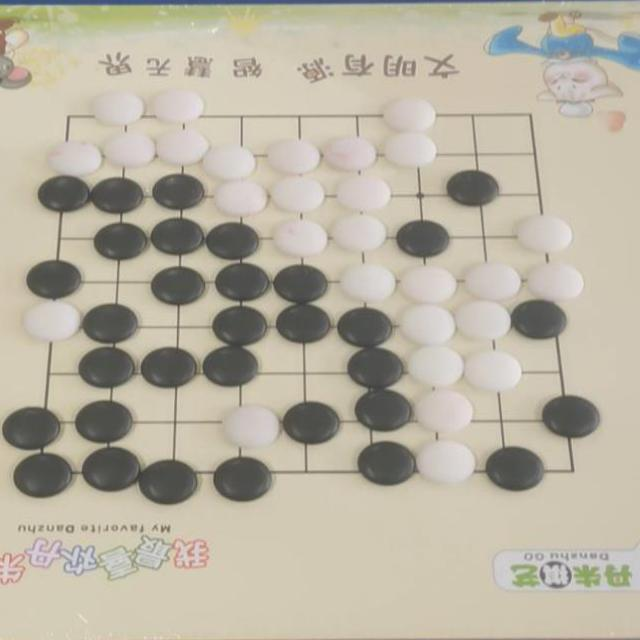blackstone: (81, 446, 140, 492), (13, 453, 72, 498), (74, 400, 134, 444), (138, 460, 198, 504), (2, 406, 62, 450), (214, 457, 272, 502), (358, 442, 416, 486), (284, 401, 340, 446), (486, 446, 542, 491), (542, 394, 599, 438), (354, 389, 412, 431), (77, 347, 136, 388), (347, 347, 404, 388), (202, 346, 260, 386), (81, 303, 139, 343), (140, 348, 197, 388), (26, 259, 82, 299), (211, 306, 268, 345), (276, 303, 332, 342), (512, 299, 566, 339), (150, 267, 206, 305), (93, 222, 149, 260), (214, 262, 270, 300), (205, 222, 261, 260), (338, 308, 393, 346), (273, 264, 328, 302), (396, 220, 450, 258), (150, 217, 204, 255), (90, 176, 144, 214), (37, 175, 90, 213), (446, 170, 500, 206), (152, 173, 204, 210)
whitestone: (222, 404, 280, 448), (417, 440, 475, 484), (416, 389, 474, 433), (464, 349, 522, 392), (22, 300, 81, 342), (463, 260, 522, 301), (406, 345, 464, 386), (398, 304, 456, 344), (455, 300, 511, 341), (527, 262, 584, 302), (399, 264, 457, 303), (339, 263, 395, 303), (516, 214, 572, 253), (272, 218, 328, 257), (213, 179, 269, 217), (332, 214, 387, 252), (270, 175, 326, 212), (48, 140, 102, 177), (102, 131, 156, 168), (202, 143, 256, 180), (336, 175, 390, 212), (266, 138, 321, 174), (156, 128, 208, 166), (323, 135, 377, 171), (92, 89, 144, 126), (384, 132, 436, 168), (152, 88, 203, 124), (383, 97, 436, 131)
